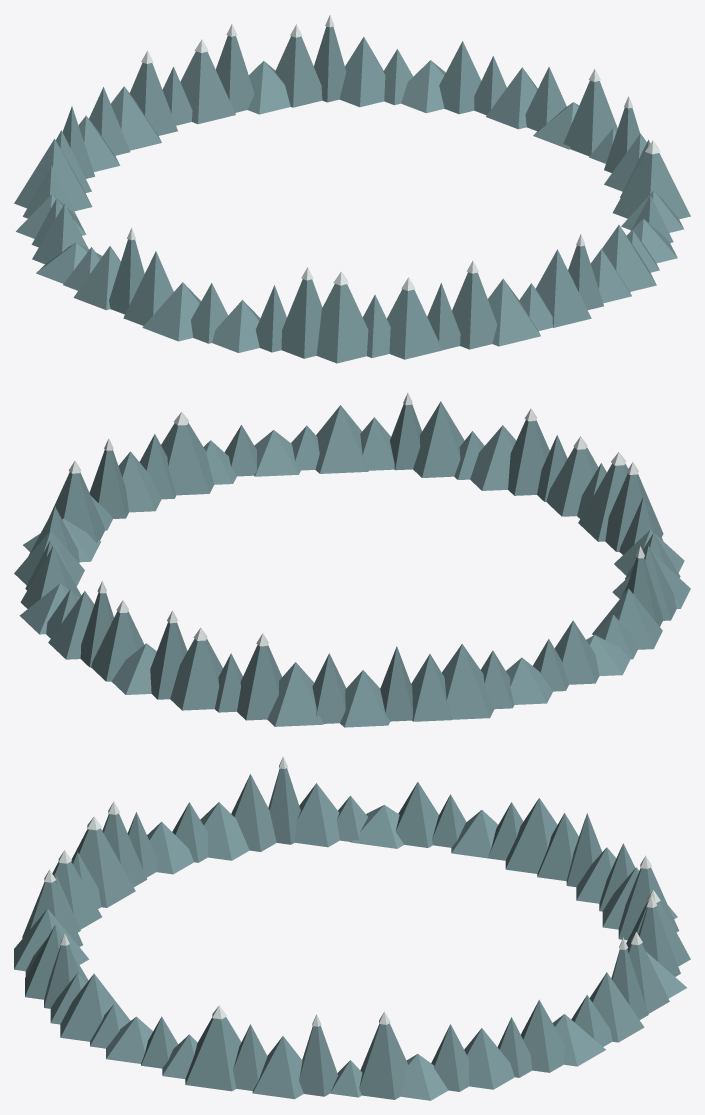
Rendered from sm_env_horizon_mountains.glb.
3 views of the same model, one above another, from view 1: azimuth 30°, elevation 25°; view 2: azimuth 150°, elevation 25°; view 3: azimuth 270°, elevation 25° (orthographic).
Visible parts, largest first — view 1: Peak.037, Peak.039, Peak.014, Peak.052, Peak.041, Peak.036, Peak.001, Peak.044, Peak.009, Peak.011, Peak.042, Peak.022 (+40 smaller); view 2: Peak.014, Peak.052, Peak.022, Peak.044, Peak.047, Peak.016, Peak.017, Peak.041, Peak.039, Peak.011, Peak.001, Peak.021 (+41 smaller); view 3: Peak.052, Peak.001, Peak.037, Peak.022, Peak.047, Peak.029, Peak.054, Peak.031, Peak.006, Peak.004, Peak.055, Peak.026 (+41 smaller).
Boxes of the visible parts, <box> form: Peak.037: <box>316,284,368,363</box>; Peak.039: <box>387,289,442,359</box>; Peak.014: <box>180,51,235,124</box>; Peak.052: <box>612,152,690,219</box>; Peak.041: <box>452,272,497,349</box>; Peak.036: <box>281,279,322,358</box>; Peak.001: <box>563,80,617,156</box>; Peak.044: <box>535,249,591,327</box>; Peak.009: <box>339,36,385,107</box>; Peak.011: <box>275,36,322,107</box>; Peak.042: <box>488,278,540,346</box>; Peak.022: <box>14,139,92,211</box>; Peak.014: <box>170,638,222,710</box>; Peak.052: <box>161,423,213,495</box>; Peak.022: <box>442,644,494,719</box>; Peak.044: <box>413,401,464,477</box>; Peak.047: <box>315,405,368,473</box>; Peak.016: <box>237,644,281,720</box>; Peak.017: <box>267,662,323,726</box>; Peak.041: <box>508,420,549,495</box>; Peak.039: <box>546,447,598,516</box>; Peak.011: <box>91,611,144,681</box>; Peak.001: <box>49,472,104,542</box>; Peak.021: <box>411,654,452,721</box>; Peak.052: <box>185,1017,241,1091</box>; Peak.001: <box>359,1023,408,1099</box>; Peak.037: <box>71,828,135,907</box>; Peak.022: <box>505,798,557,873</box>; Peak.047: <box>60,973,130,1041</box>; Peak.029: <box>294,783,339,847</box>; Peak.054: <box>252,1036,303,1099</box>; Peak.031: <box>231,774,276,851</box>; Peak.006: <box>521,1000,565,1072</box>; Peak.004: <box>464,1028,514,1089</box>; Peak.055: <box>299,1025,338,1096</box>; Peak.026: <box>395,782,438,847</box>.
Bounding box in the file's own units: 1004 × 130 × 1006.
